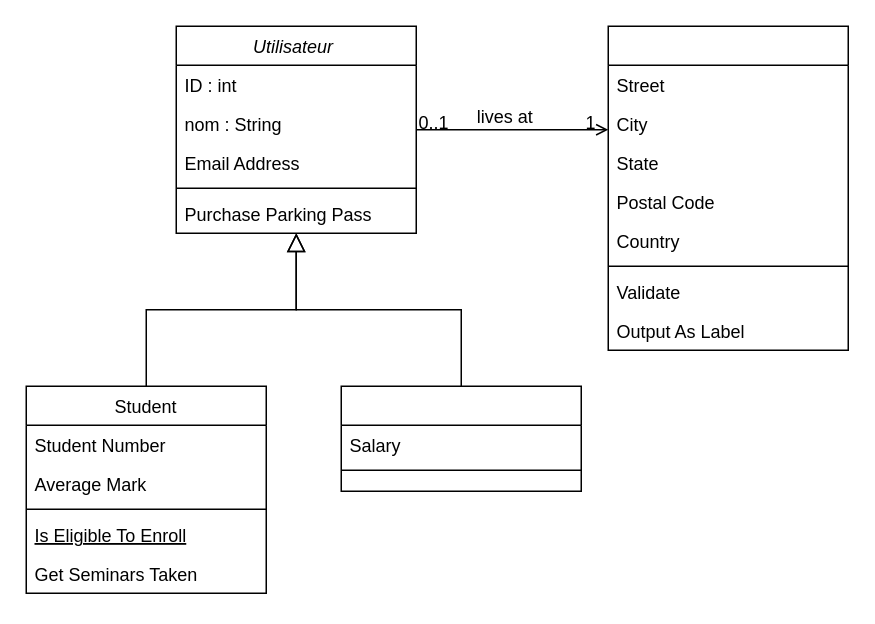
This 875x624 diagram has some shape labels left out. The box of each missing label's shape, as (x1, y1, x2, y2) in pixels:
Address: (607, 25, 848, 350)
Professor: (340, 385, 581, 491)
